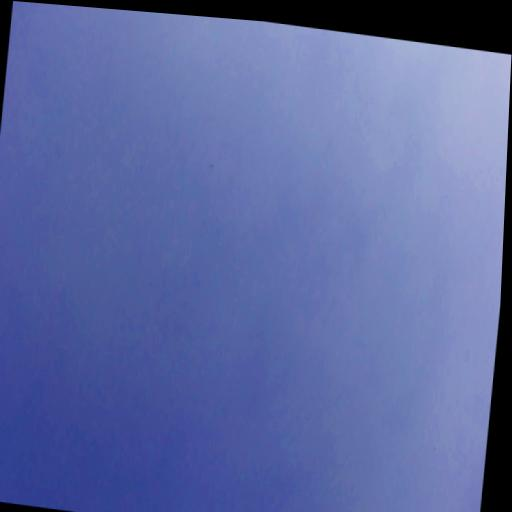drones: (209, 162, 214, 170)
